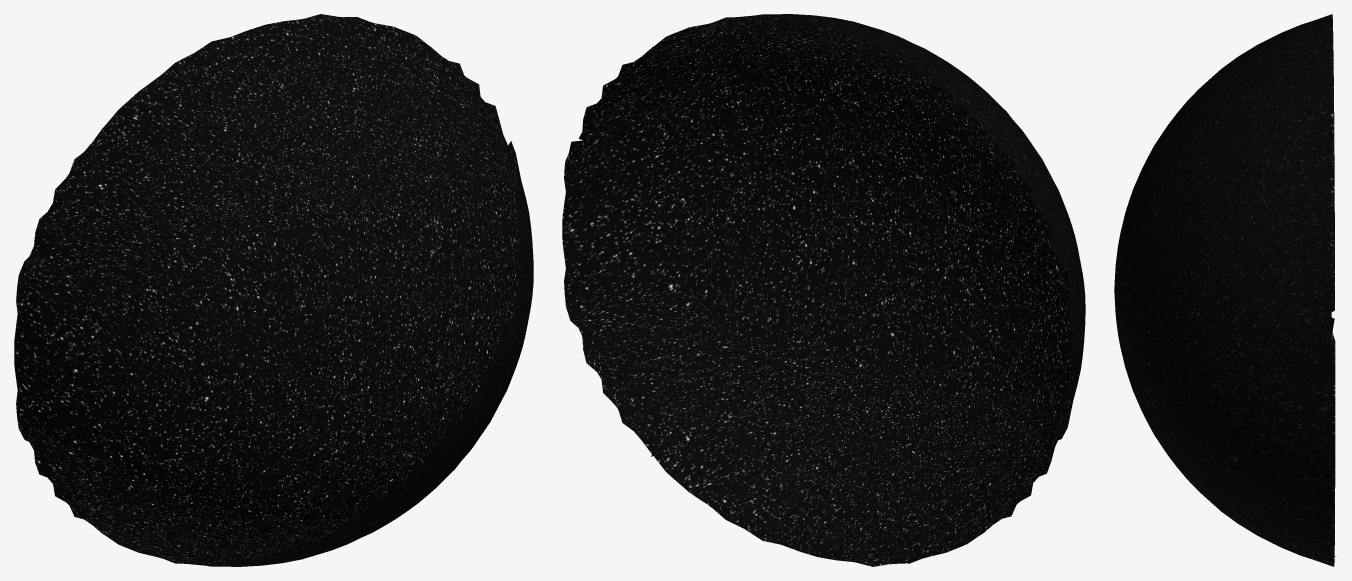
The model's file is spacedome.gltf.
3 renders of one model, left to right at view 1: azimuth 30°, elevation 25°; view 2: azimuth 150°, elevation 25°; view 3: azimuth 270°, elevation 25°, orthographic. The views are drawn at different scales.
Visible parts, largest first — view 1: low-angle-shot-mesmerizing-starry-sky; view 2: low-angle-shot-mesmerizing-starry-sky; view 3: low-angle-shot-mesmerizing-starry-sky.
Boxes of the visible parts, <box> form: low-angle-shot-mesmerizing-starry-sky: <box>14,14,533,566</box>; low-angle-shot-mesmerizing-starry-sky: <box>562,14,1085,566</box>; low-angle-shot-mesmerizing-starry-sky: <box>1114,14,1335,566</box>.
Bounding box in the file's own units: 1.94 × 1.94 × 0.7893.
Materials: 1 (1 with a texture image).
